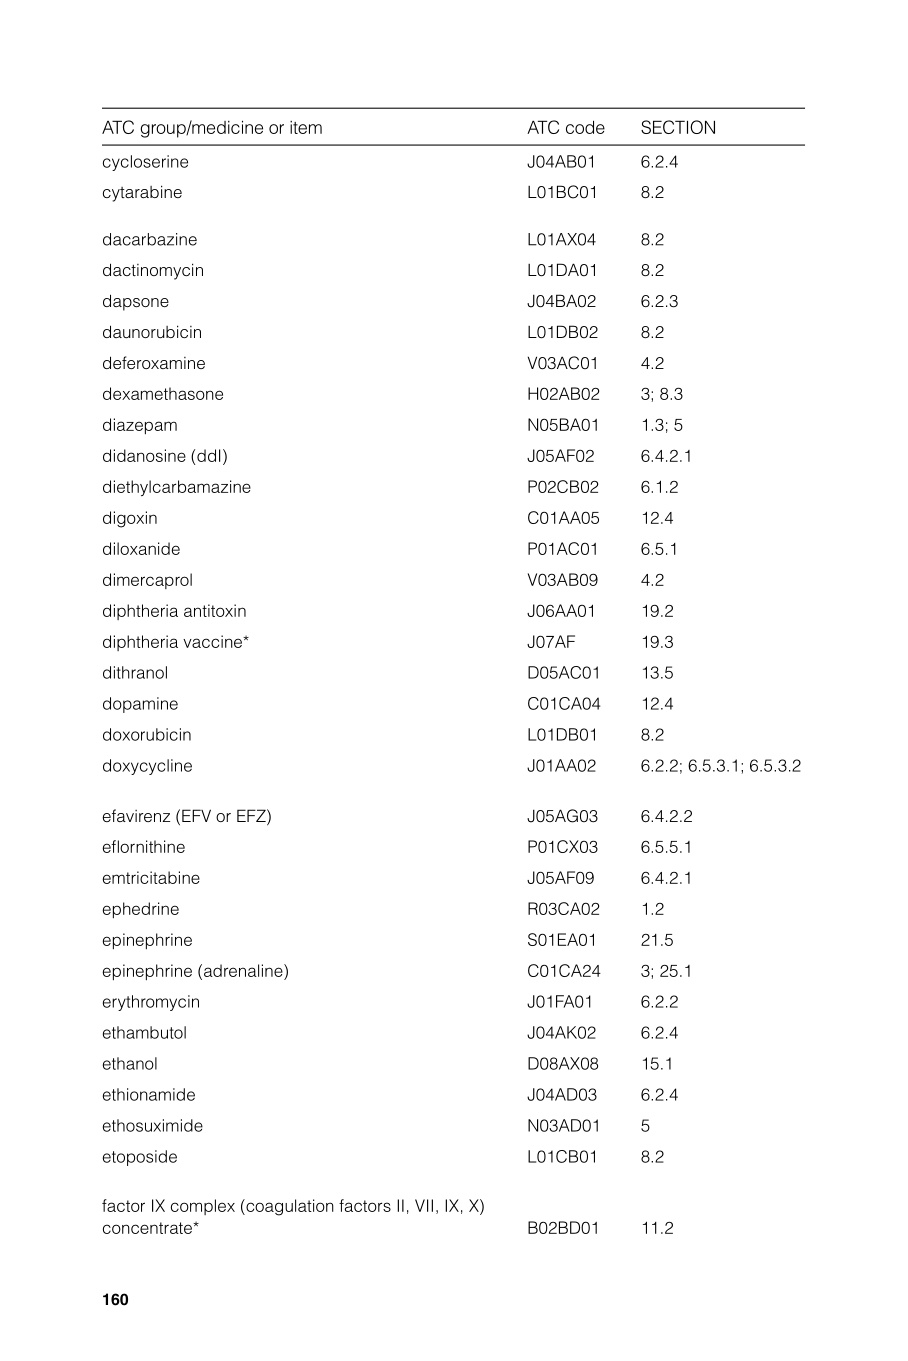partial_lined: (100, 106, 807, 1240)
